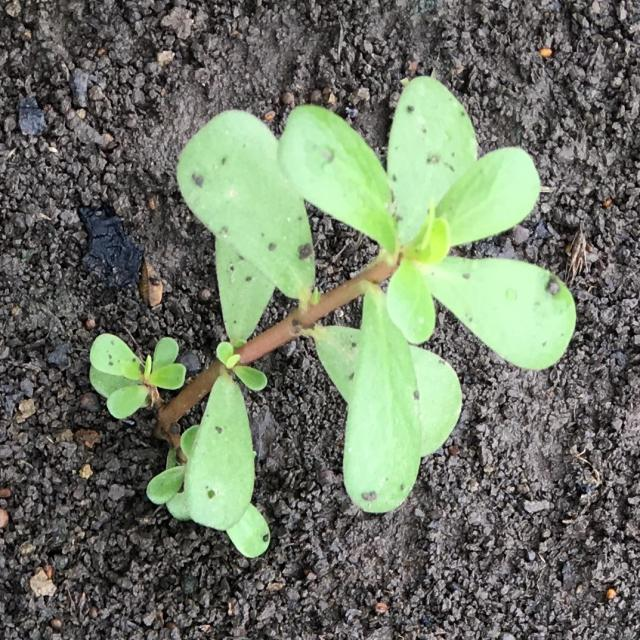Purslane: (89, 76, 577, 557)
